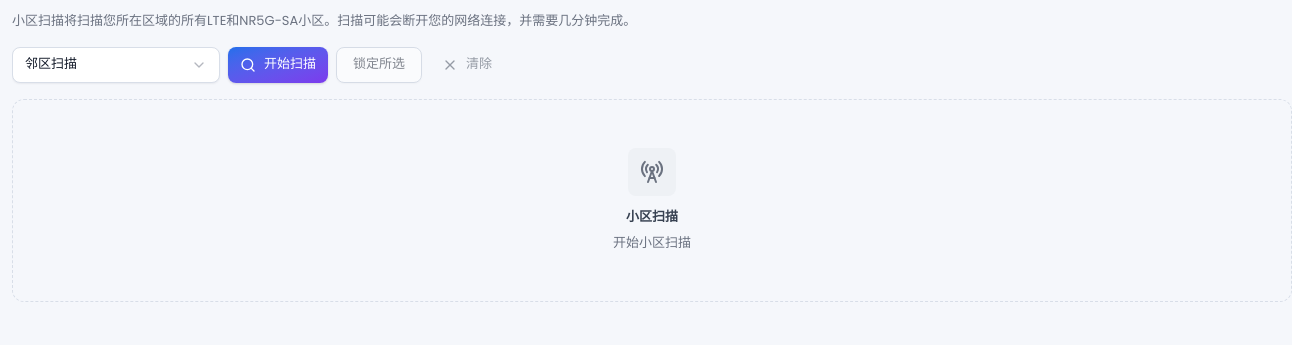
Scenario: ScanCard › 选择约束:NR 单选替换、行高亮,锁定所选计数
Click the button "开始扫描" at (278, 65), box [228,47,328,83]
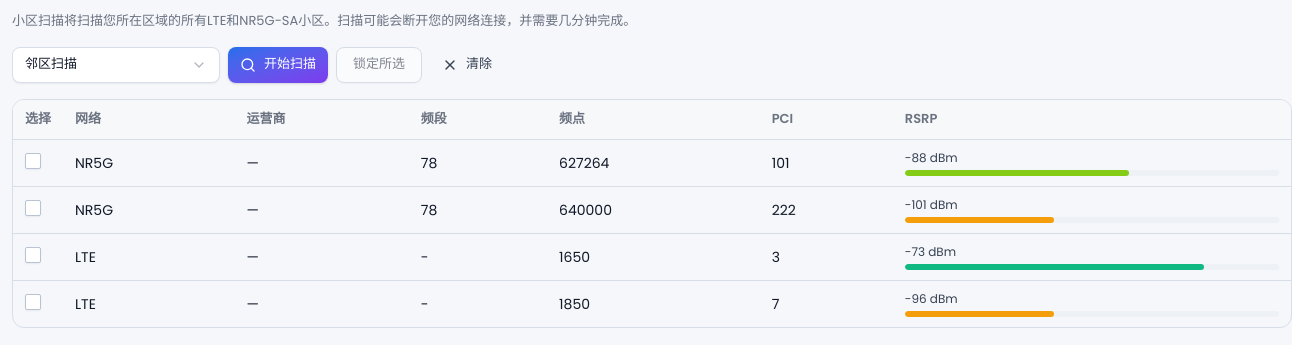
Now the text "627264" is shown, box [547,140,760,187]
Click the text "101" at (652, 163), box [13,140,1291,187]
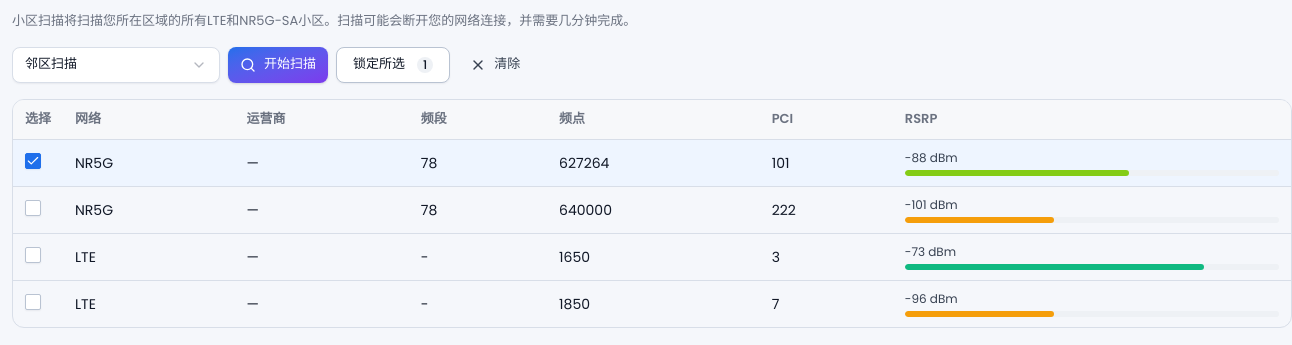
Now the button "锁定所选 1" is shown, box [336,47,450,83]
# NR 单选:选 222 替换 101
Click the text "222" at (652, 210), box [13,187,1291,234]
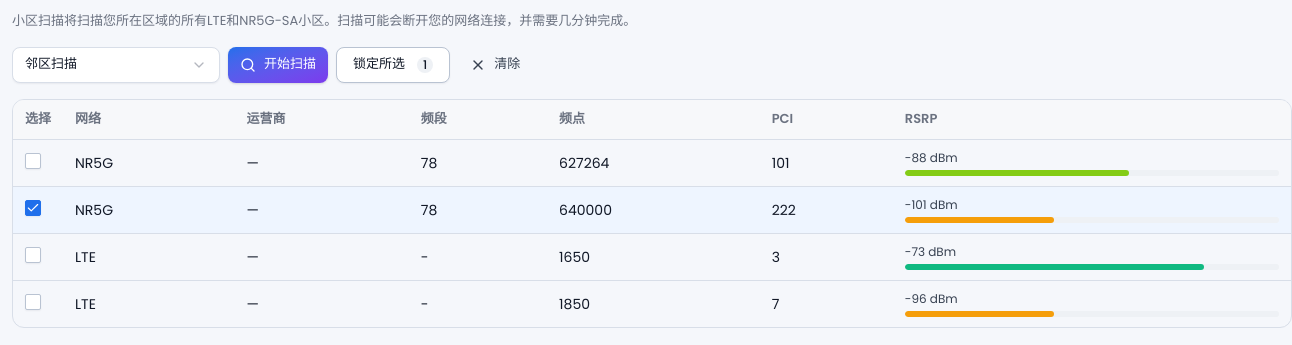
Now the button "锁定所选 1" is shown, box [336,47,450,83]
#  LTE 可叠加
Click the text "3" at (652, 257), box [13,234,1291,281]
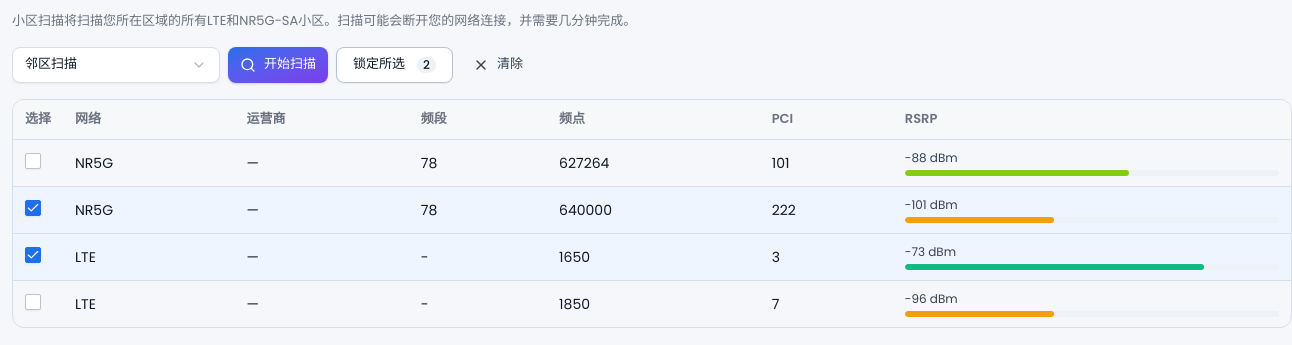
Now the button "锁定所选 2" is shown, box [336,47,453,83]
Click the text "222" at (652, 210), box [13,187,1291,234]
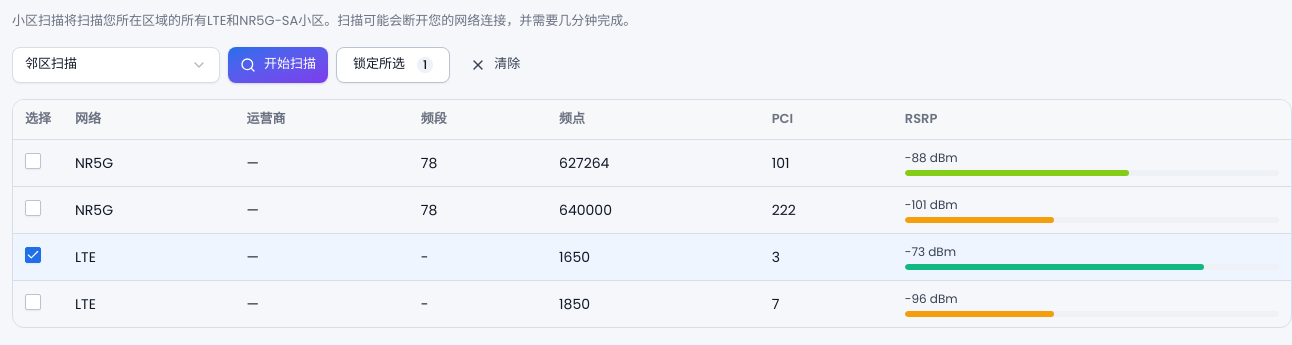
Now the button "锁定所选 1" is shown, box [336,47,450,83]
